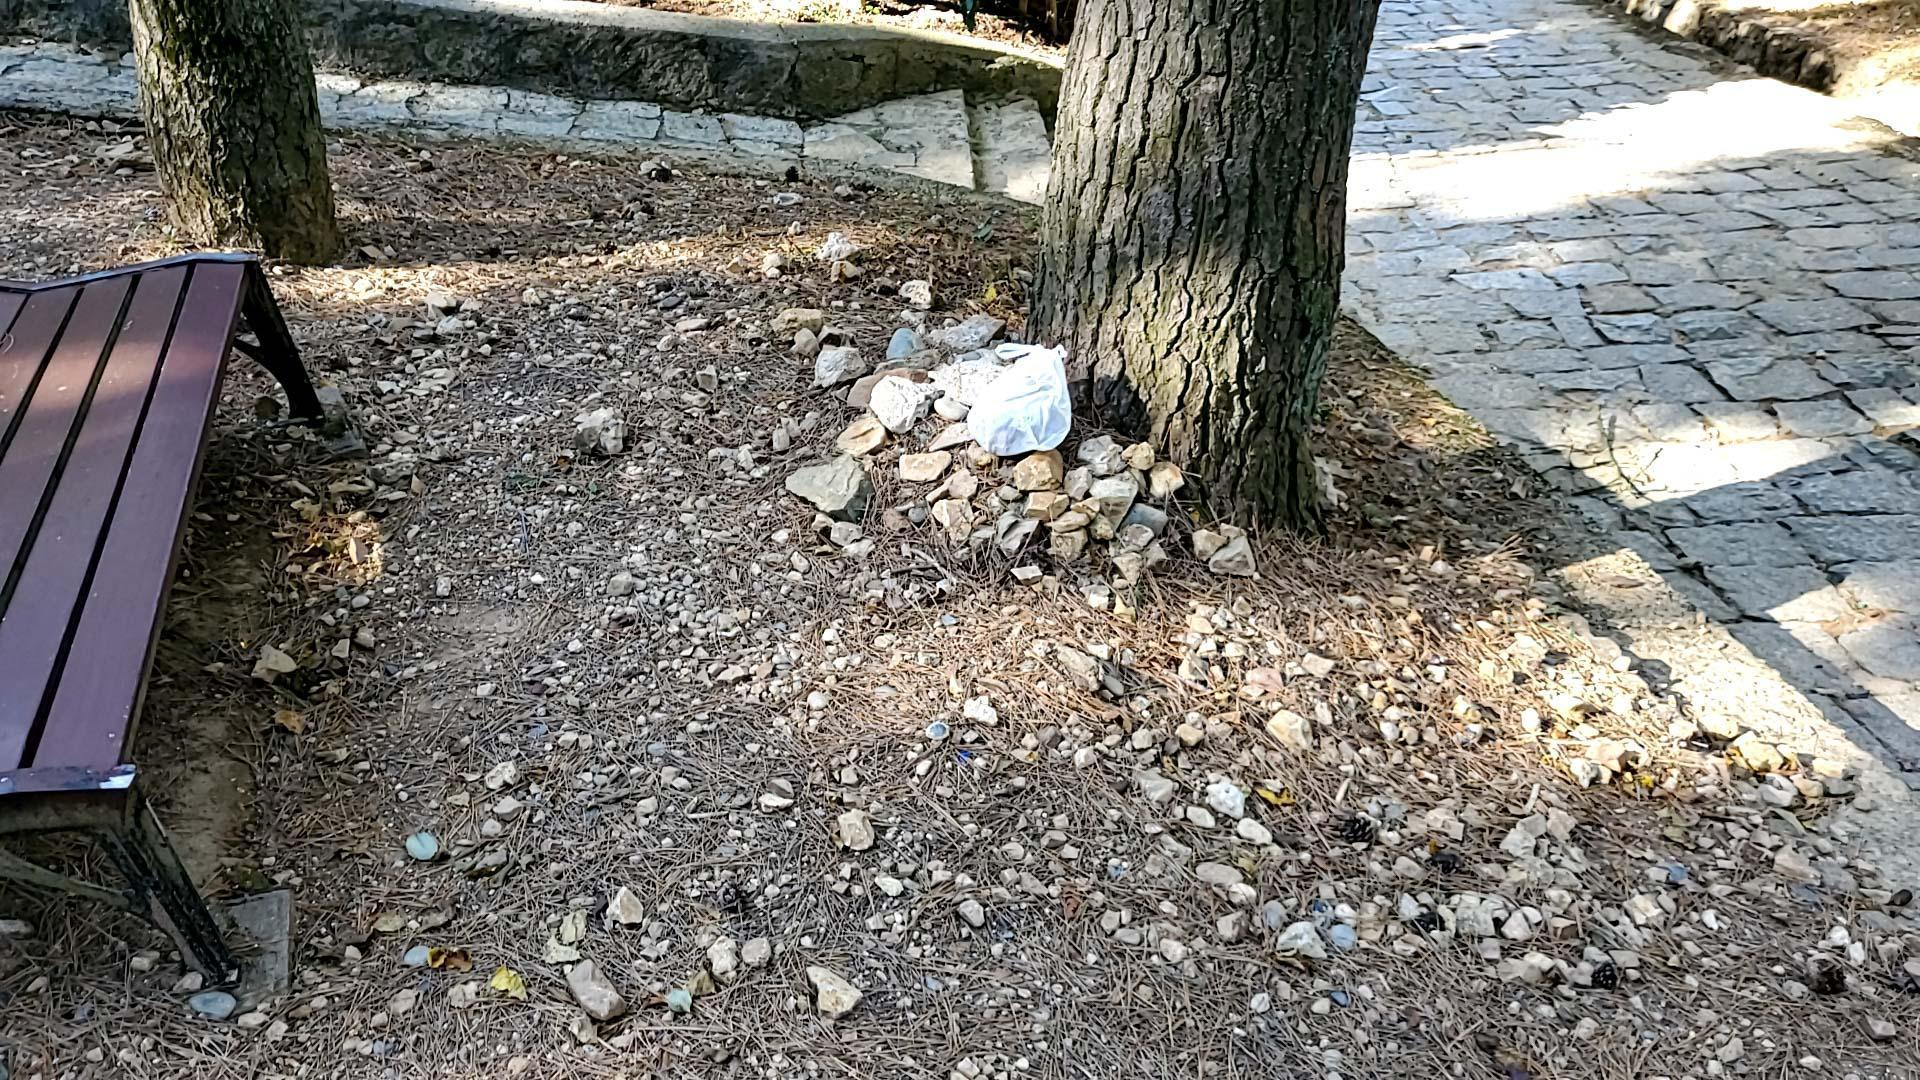white_bag: (957, 328, 1077, 458)
